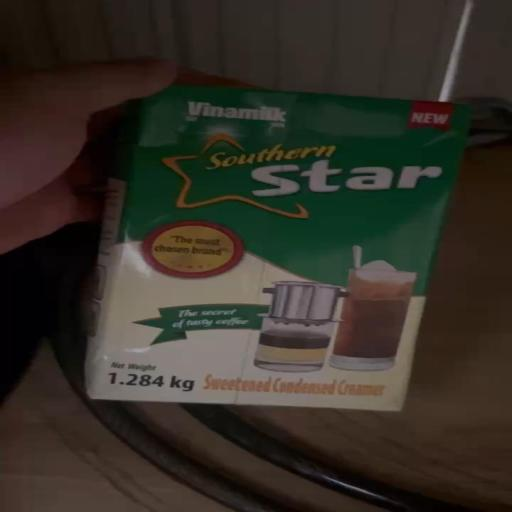ly_giay: (85, 85, 470, 410)
